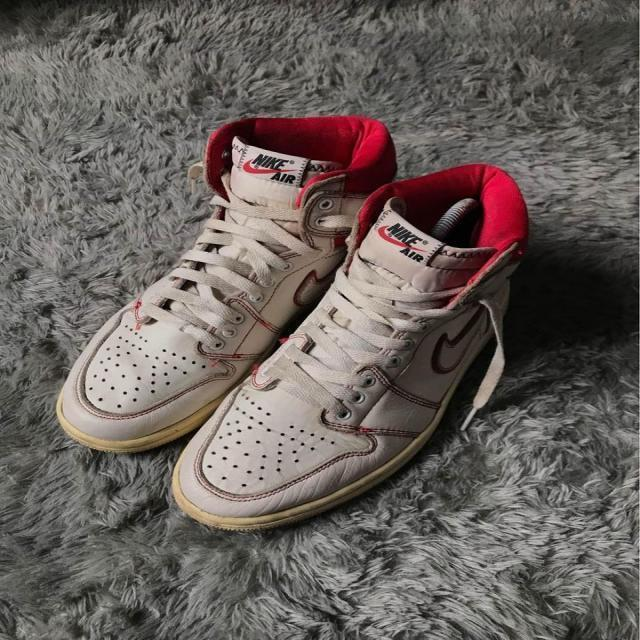nike original jordan 1: (166, 162, 532, 534), (55, 111, 398, 454)
